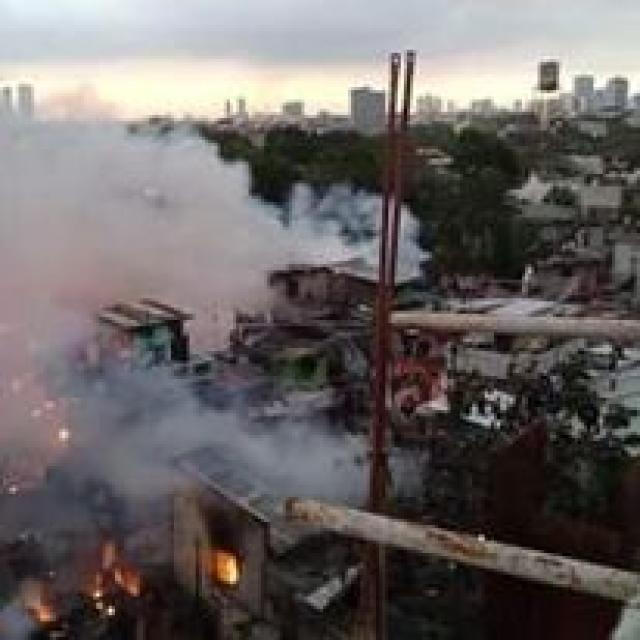Fire: (87, 536, 157, 610), (210, 550, 241, 589)
Smoke: (0, 91, 309, 538)
